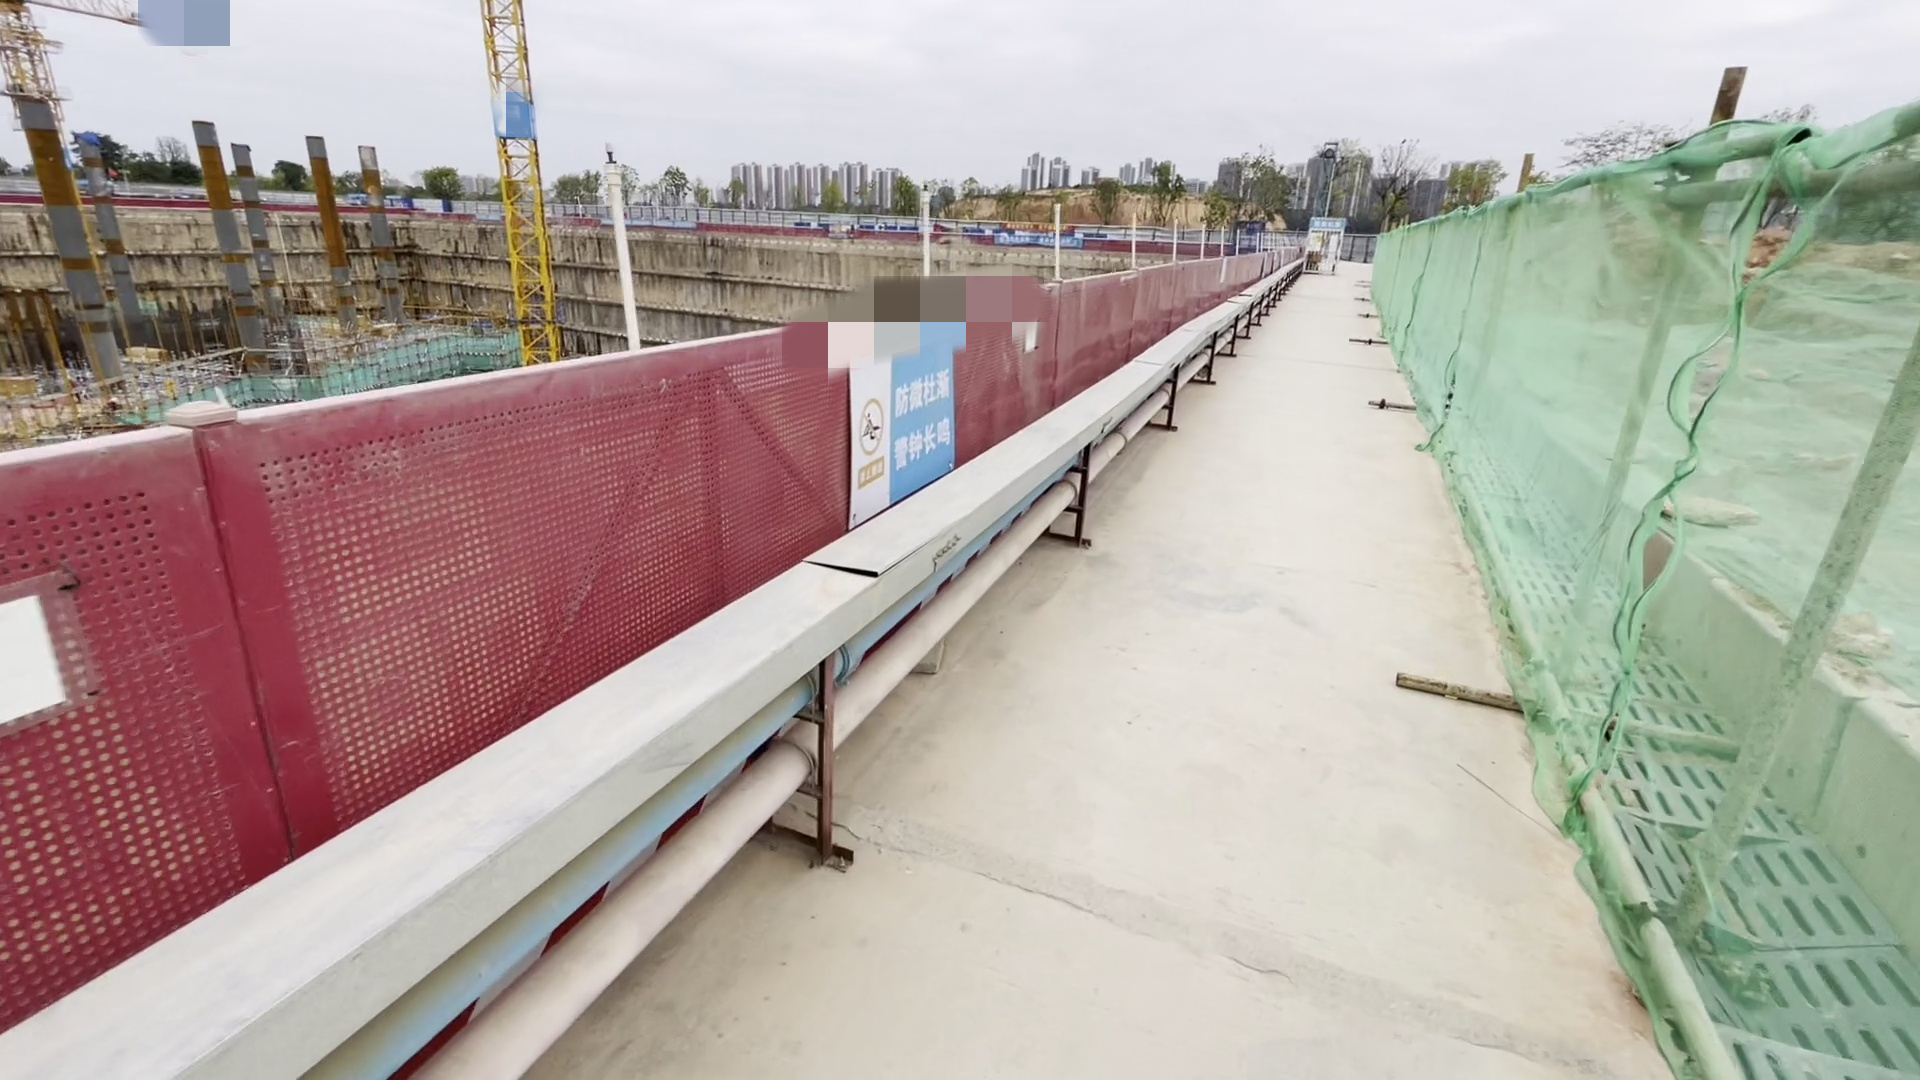fence: (1, 248, 1298, 1033)
slogan: (876, 386, 963, 456)
